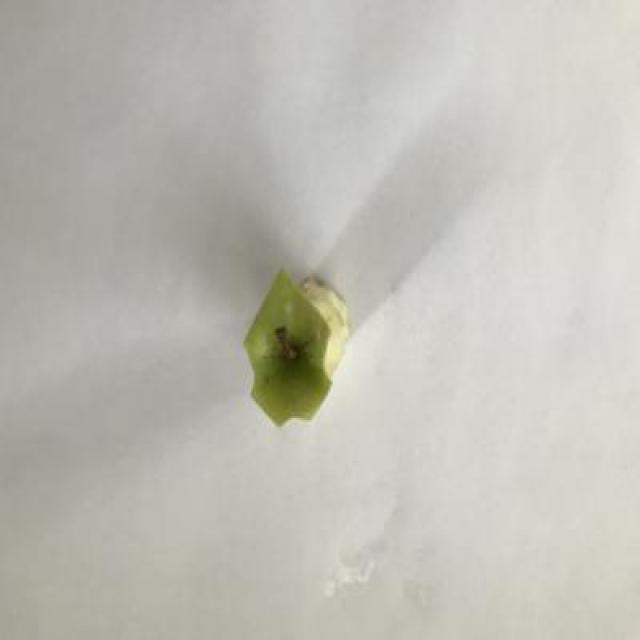compost: (238, 265, 360, 431)
